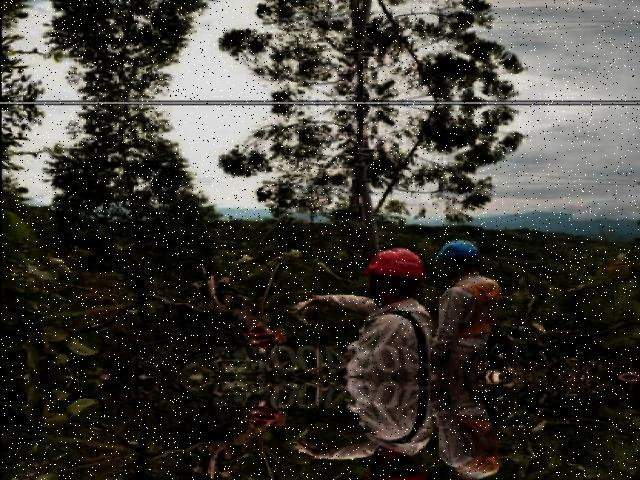Helmet: (360, 244, 432, 284), (433, 234, 486, 266)
